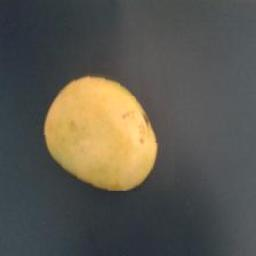Mango Fresh: (37, 68, 175, 192)
